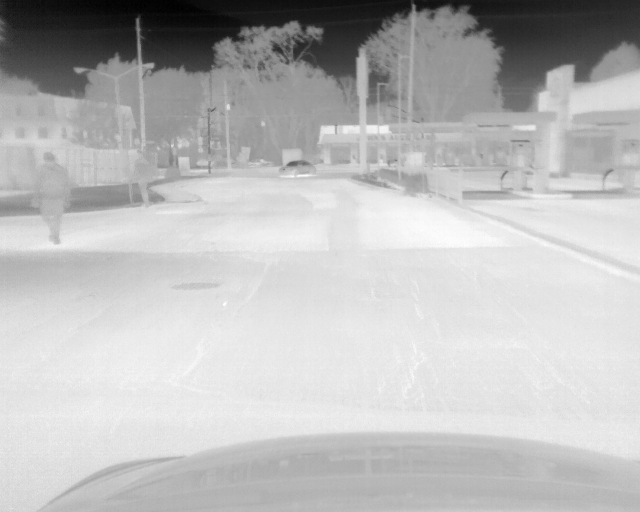car: (278, 160, 316, 177), (249, 158, 273, 169)
people: (33, 151, 72, 245), (131, 150, 153, 210)
